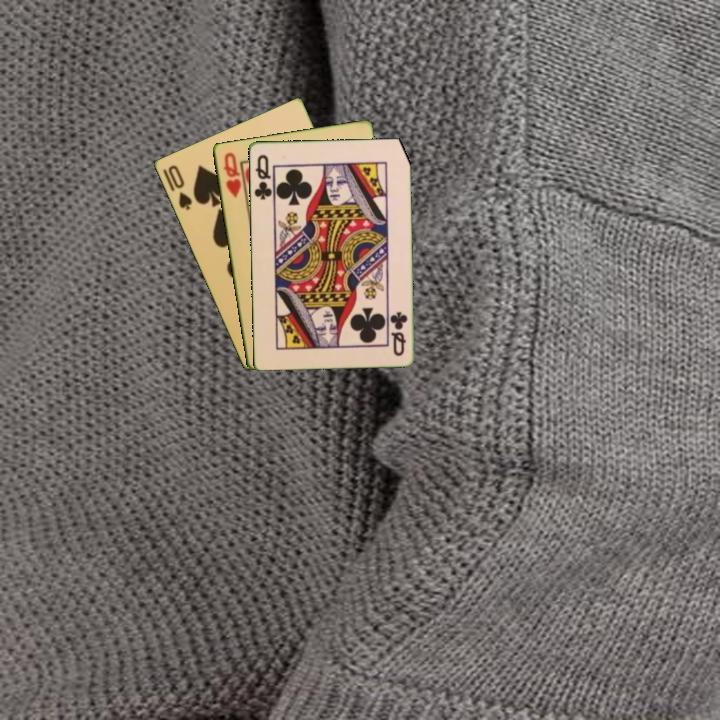10s: (164, 161, 195, 213)
Qc: (250, 151, 275, 202), (387, 308, 410, 358)
Qh: (219, 149, 244, 200)
